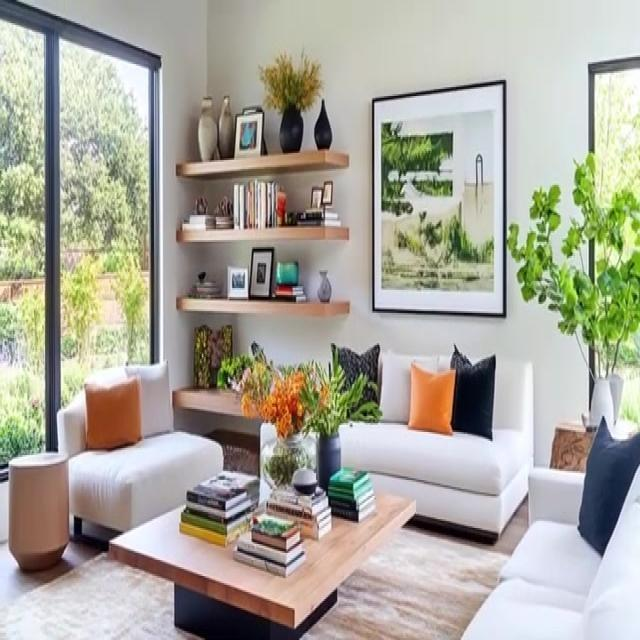obstacle: (108, 478, 416, 638), (328, 350, 536, 524), (56, 359, 224, 546), (454, 478, 640, 640), (174, 148, 350, 316)
